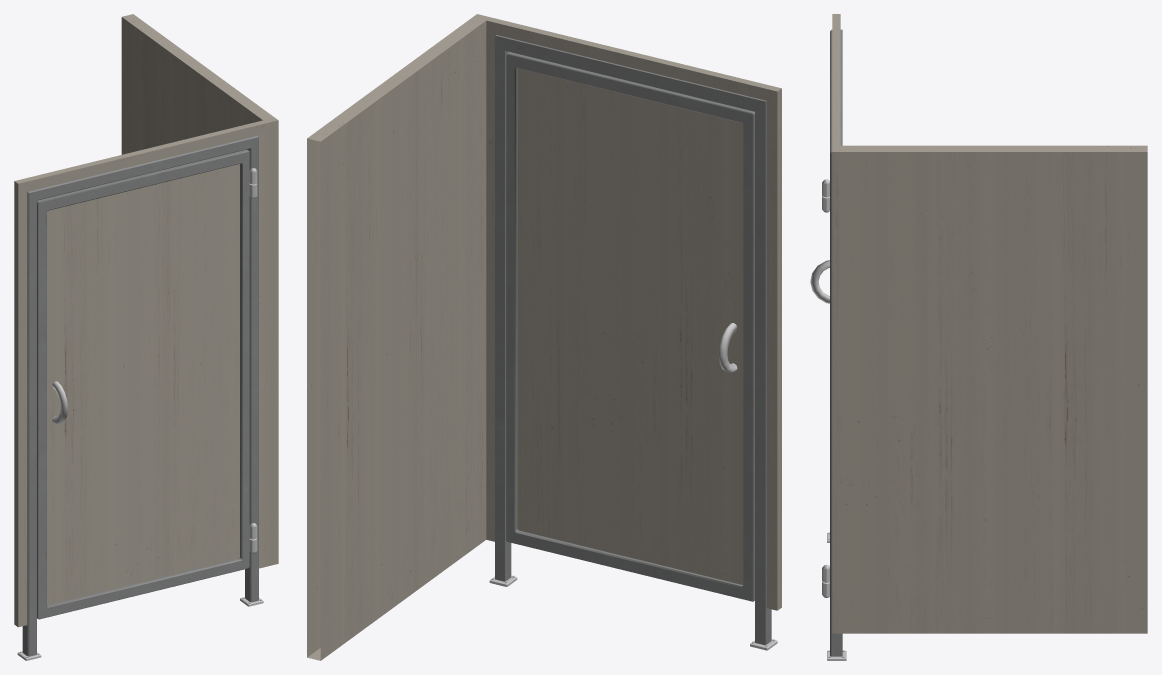
File: DressingRoomWall.fbx
3 views of the same model, side by side, from view 1: azimuth 30°, elevation 25°; view 2: azimuth 150°, elevation 25°; view 3: azimuth 270°, elevation 25° (orthographic). The views are drawn at different scales.
Visible parts, largest first — view 1: DressingRoomWallDoor, DressingRoomWall_LOD0; view 2: DressingRoomWall_LOD0, DressingRoomWallDoor; view 3: DressingRoomWall_LOD0, DressingRoomWallDoor.
Boxes of the visible parts, bbox=[...] form: DressingRoomWallDoor: bbox=[37, 149, 257, 619]; DressingRoomWall_LOD0: bbox=[14, 14, 278, 660]; DressingRoomWall_LOD0: bbox=[307, 14, 781, 660]; DressingRoomWallDoor: bbox=[506, 52, 754, 601]; DressingRoomWall_LOD0: bbox=[822, 14, 1147, 660]; DressingRoomWallDoor: bbox=[810, 179, 829, 582].
Size of what is drawn, in the model's own units: 1.44 by 2.52 by 1.49.
